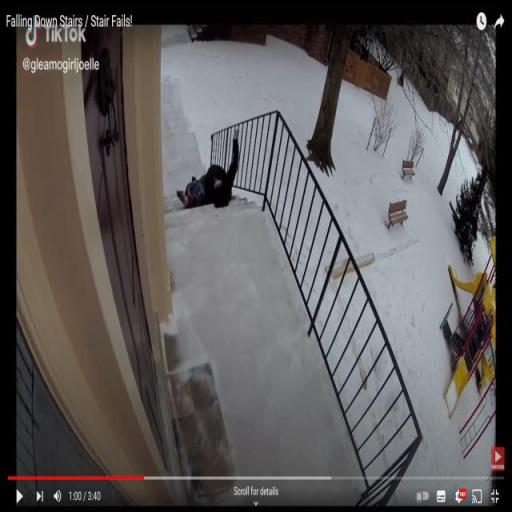Fall: (173, 118, 241, 212)
